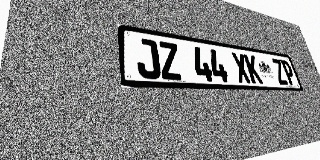4: (191, 46, 214, 82), (207, 48, 229, 82)
J: (135, 37, 162, 79)
K: (243, 54, 263, 84)
P: (280, 60, 297, 85)
X: (231, 52, 252, 83)
Z: (157, 41, 183, 80), (271, 58, 289, 85)
